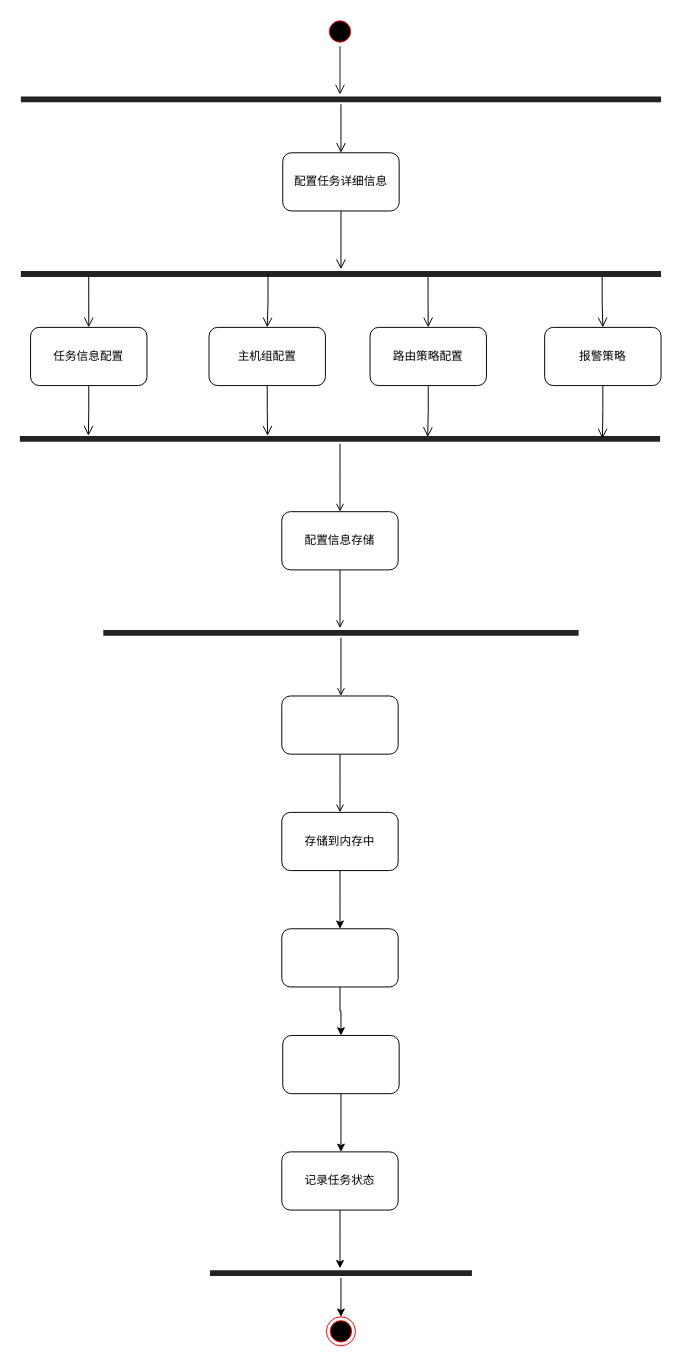
Some shapes in this 680 by 1363 pixel diagram are drawn without their labels. The shapes that lost their labels are listed below. From the top down, each one's centre as x and y in pixels, then its label:
point 339,724: 拉取任务详细信息
point 339,957: 放入调度器
point 340,1064: 执行任务
